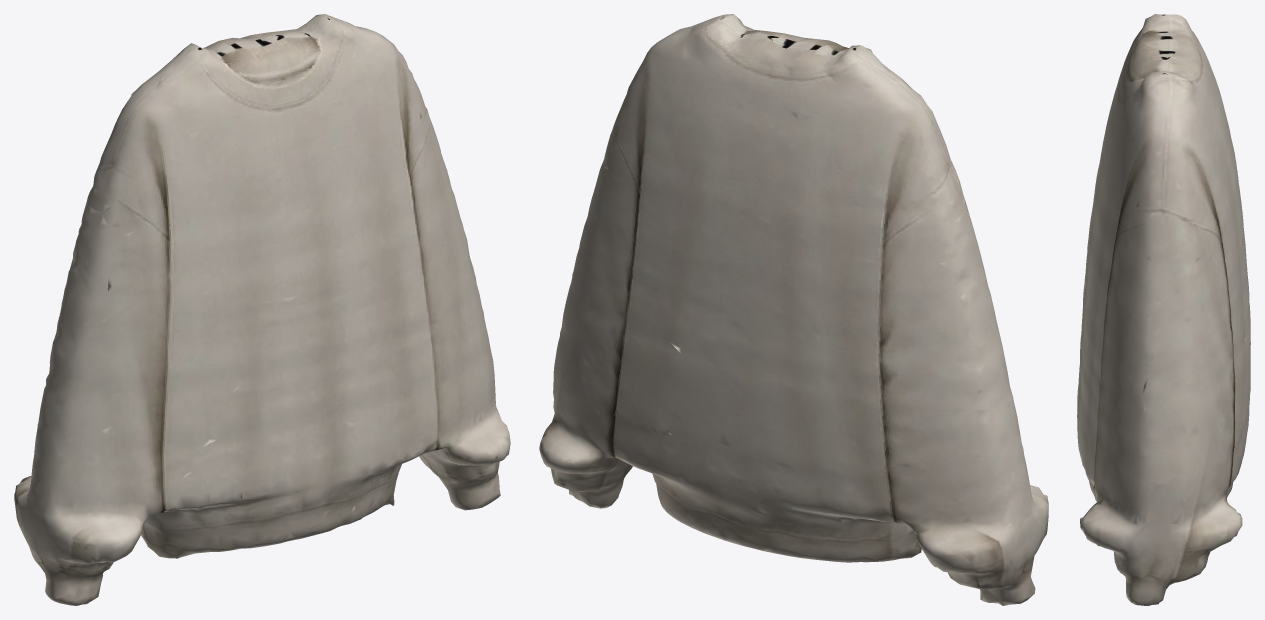
File: oat-product.glb
3 renders of one model, left to right at view 1: azimuth 30°, elevation 25°; view 2: azimuth 150°, elevation 25°; view 3: azimuth 270°, elevation 25°, orthographic. The views are drawn at different scales.
Visible parts, largest first — view 1: geometry_0; view 2: geometry_0; view 3: geometry_0.
Boxes of the visible parts, x1,y1,x2,y2 form: geometry_0: (14, 14, 510, 605); geometry_0: (539, 14, 1048, 605); geometry_0: (1077, 14, 1250, 605).
Bounding box in the file's own units: 0.6629 × 0.7195 × 0.24.
1 material, 1 textured.
